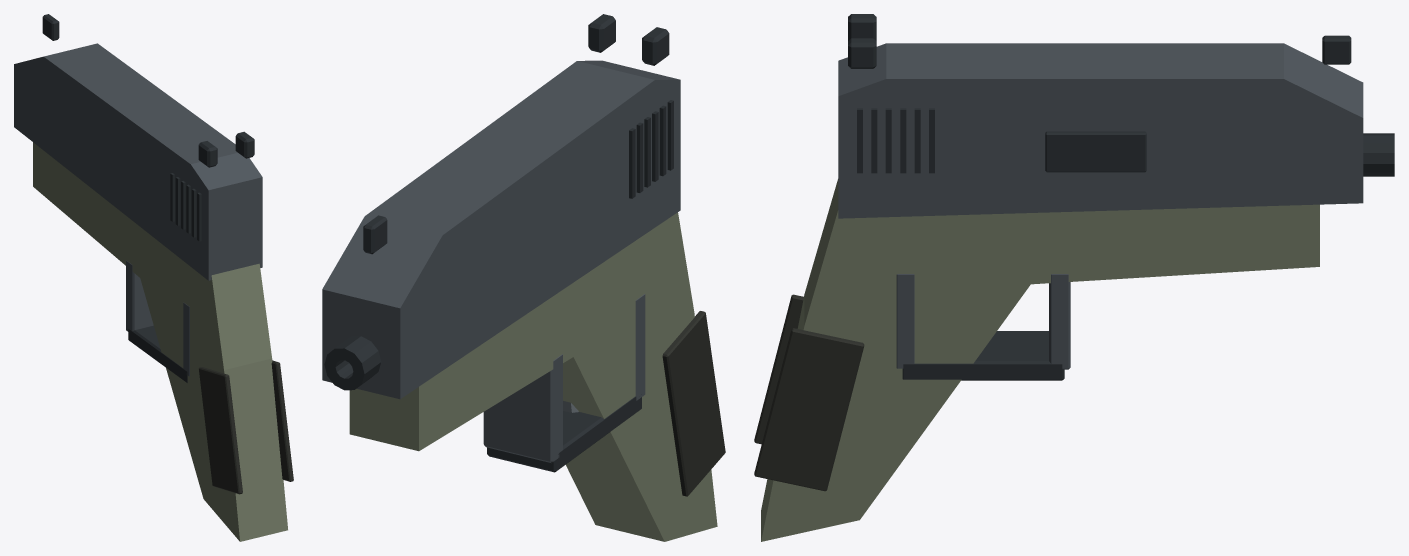
The model's file is weapon_finch9.glb.
The picture shows the model from 3 angles, left to right: view 1: azimuth 30°, elevation 25°; view 2: azimuth 150°, elevation 25°; view 3: azimuth 270°, elevation 25°; orthographic projection. The views are drawn at different scales.
Parts seen in each view (by area): view 1: Geometry_weapon_finch9; view 2: Geometry_weapon_finch9; view 3: Geometry_weapon_finch9.
Boxes of the visible parts, <box> form: Geometry_weapon_finch9: <box>14,14,293,541</box>; Geometry_weapon_finch9: <box>322,14,725,541</box>; Geometry_weapon_finch9: <box>754,14,1394,541</box>.
Size of the model in its own units: 0.0387 by 0.228 by 0.2658.
